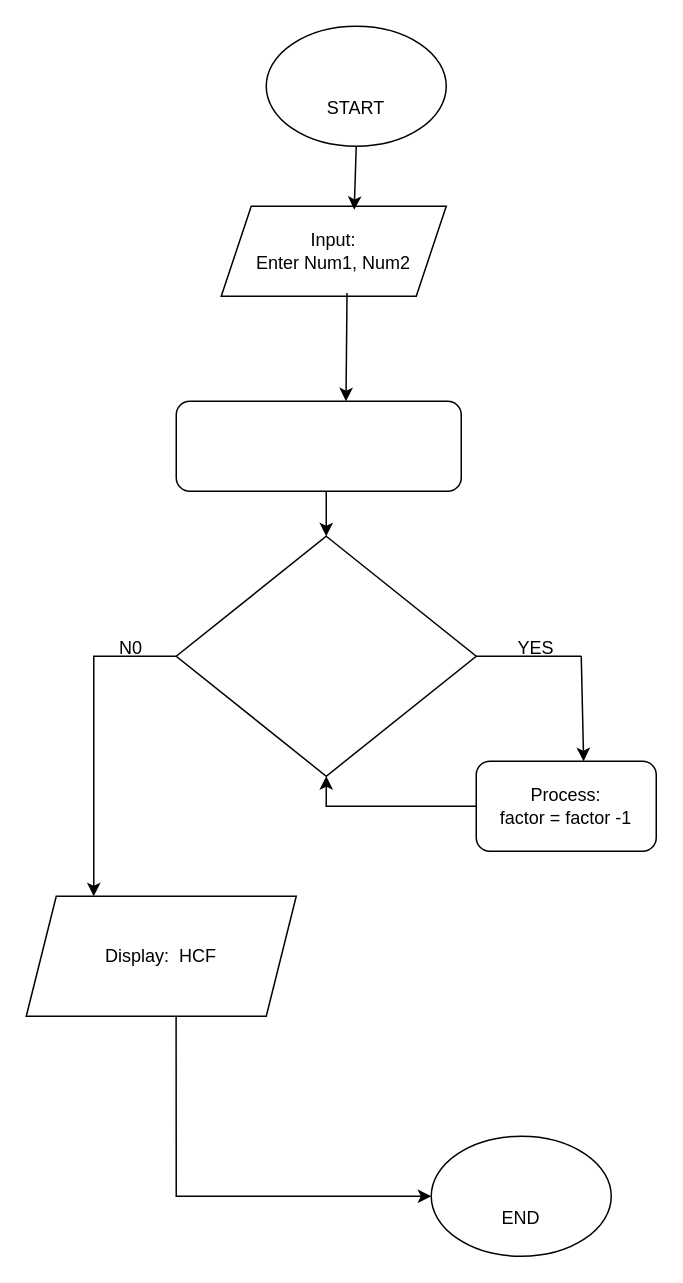
Some shapes in this 683 by 1283 pixel diagram are drawn without their labels. The shapes that lost their labels are listed below. From the top down, each one's box as (x1, y1, x2, y2) in pixels, then its label:
(175, 400, 461, 491): Process: smaller =min(Num1,Num2) factor = factor - 1
(175, 535, 476, 776): Decision: Does factor divide both? factor % Num1 == 0 AND factor % Num2 == 0
